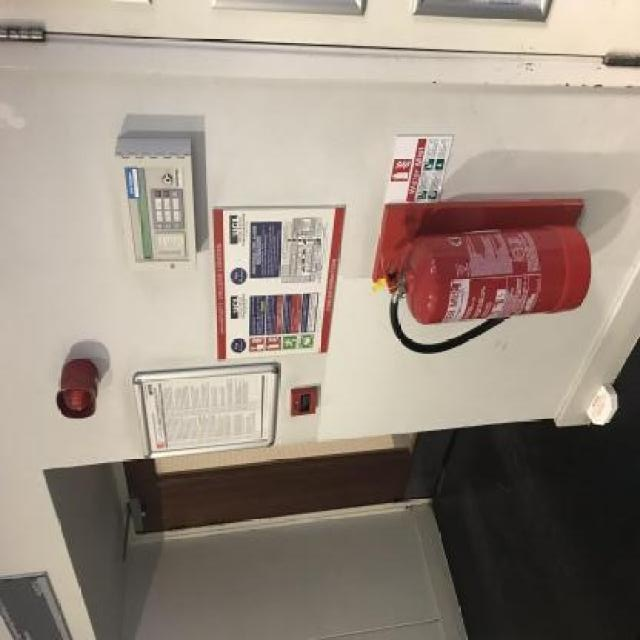fire extinguisher: (376, 222, 590, 355)
